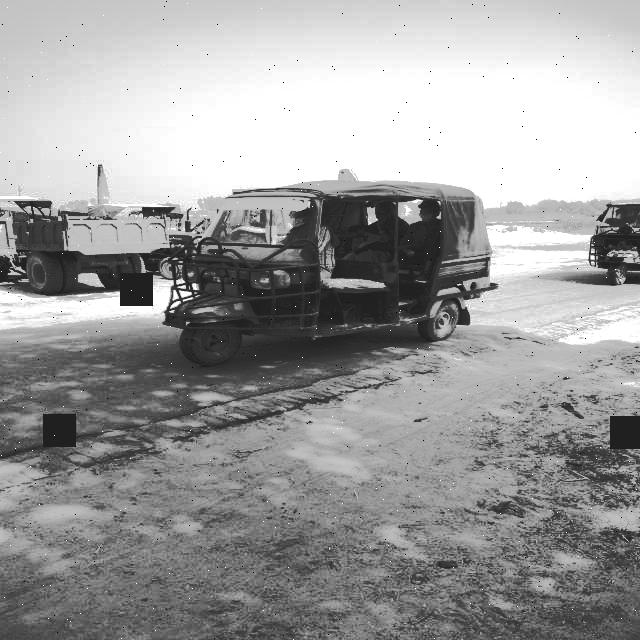Auto-Rickshaw: (161, 179, 493, 371), (590, 196, 640, 287)
